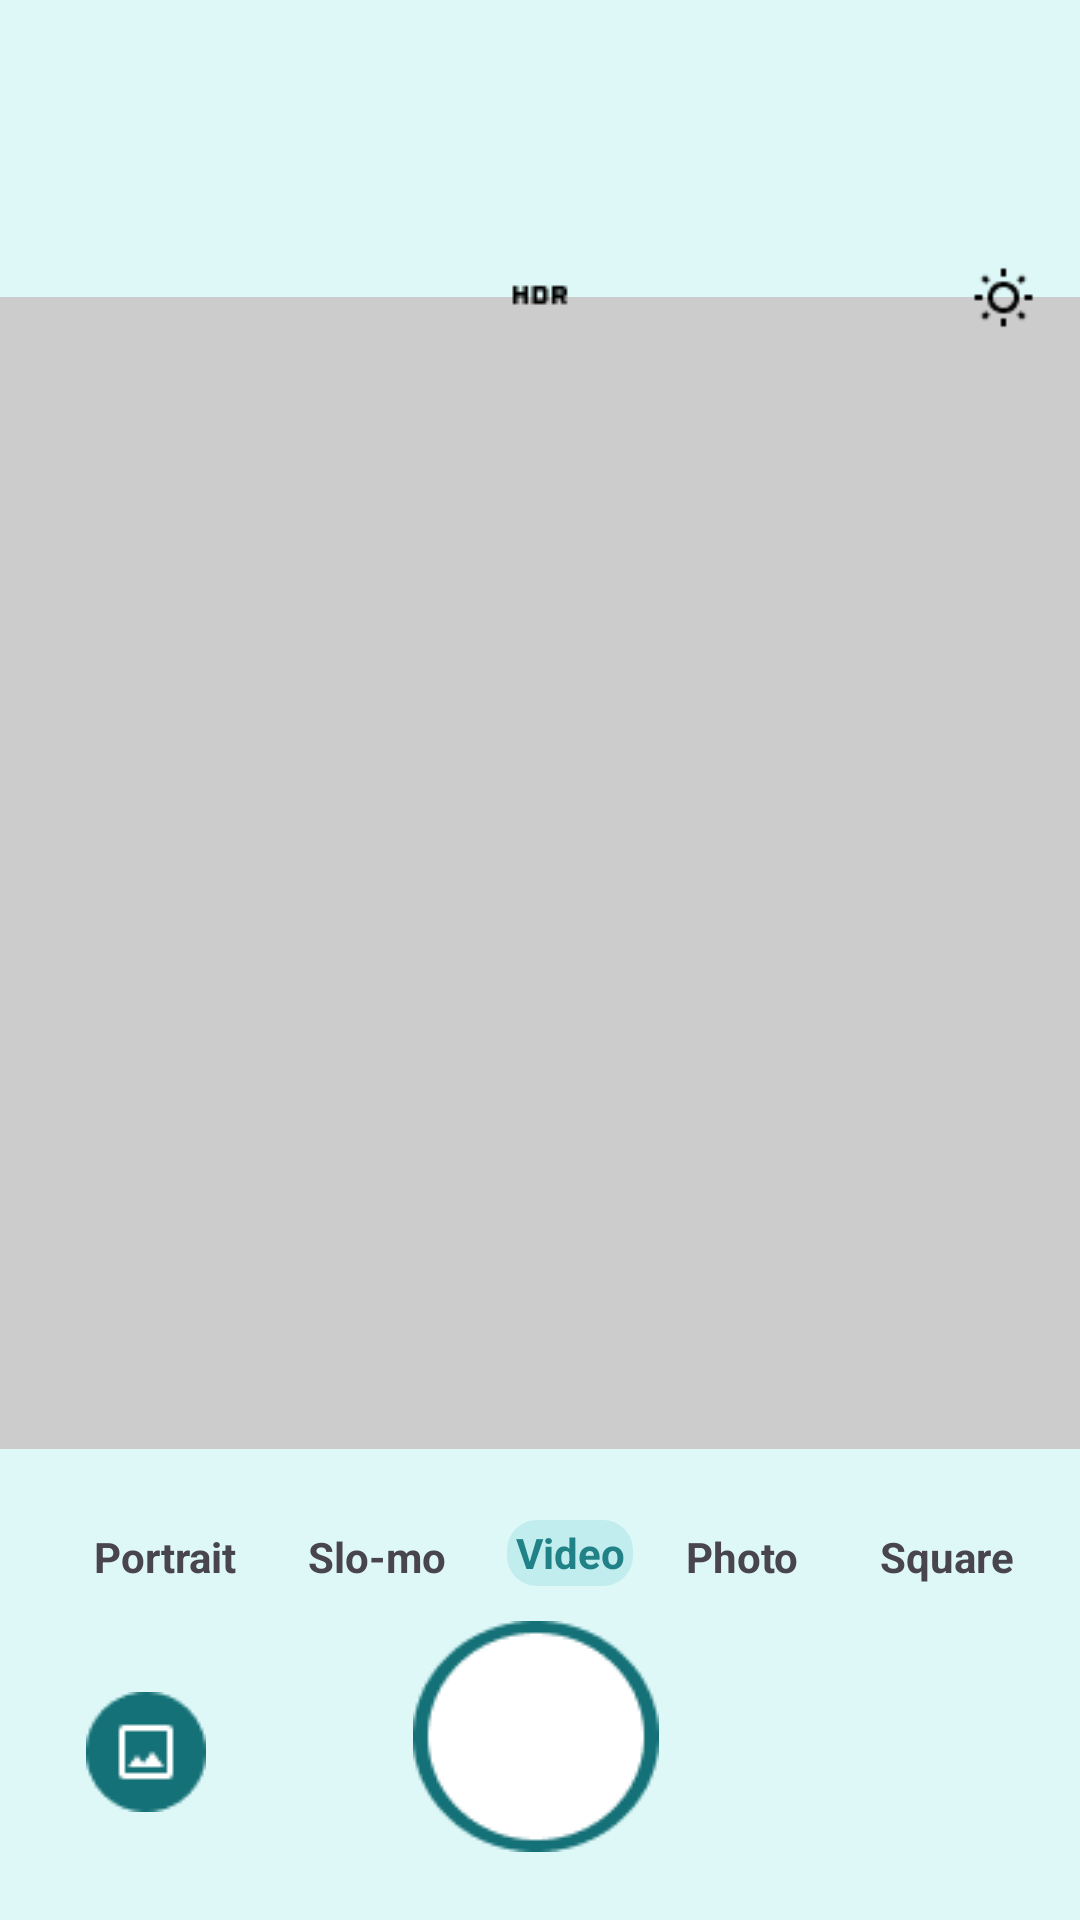

Point at icon controls on the screen. Image size 1080w x 1920h, points as (x,y).
sunny: (1003,297)
